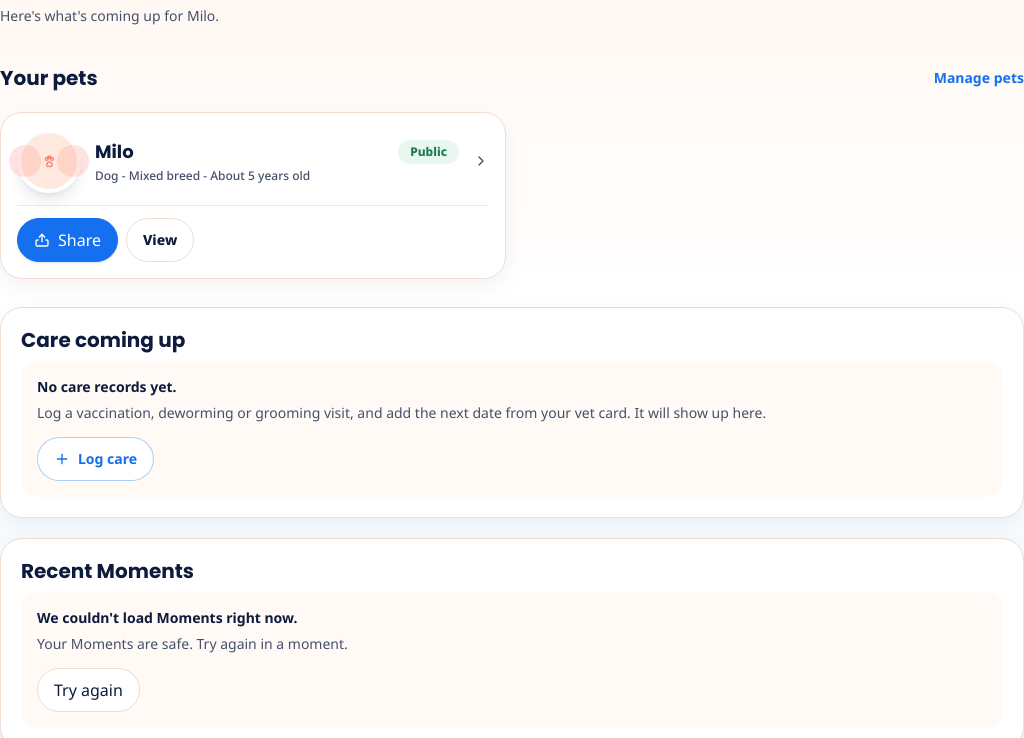
Scenario: Dashboard loading and failures › shows a retryable failure when no Moments could be read
The image size is (1024, 738).
Expected: the text "We couldn't load Moments right now." is shown, [37, 608, 297, 627]
What coordinates should you click on to do the following:
click the button "Try again"
I would click on:
 (88, 690)
Its box is [37, 668, 140, 712].
(page scrolled)
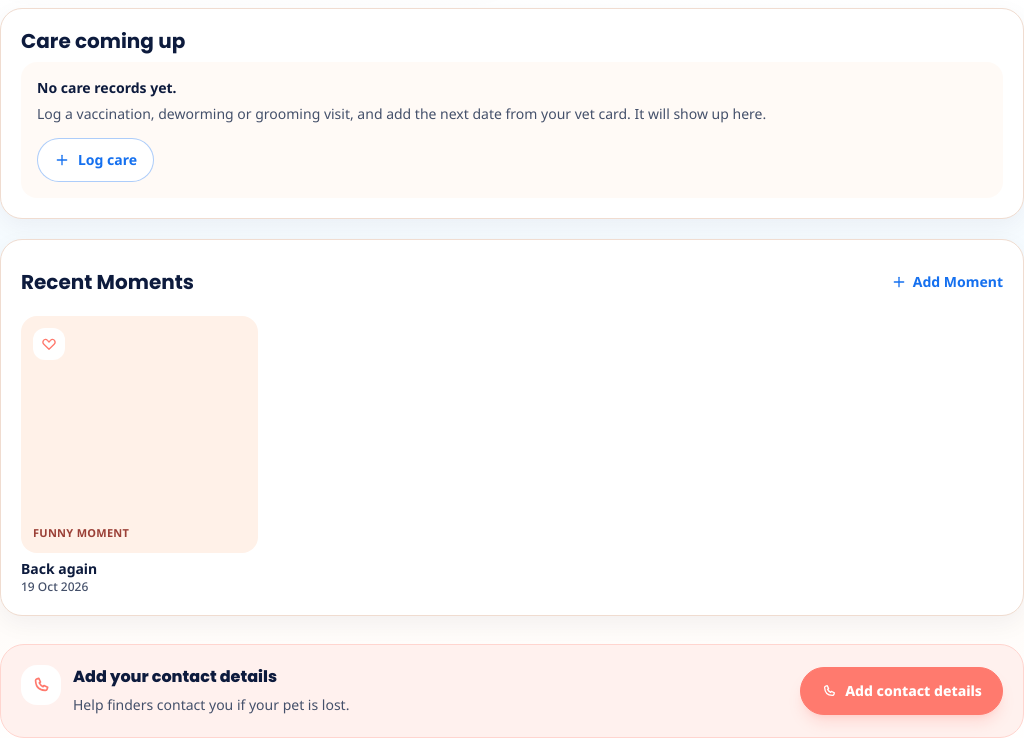
Result: the text "Back again" is shown at [21, 558, 97, 578]
